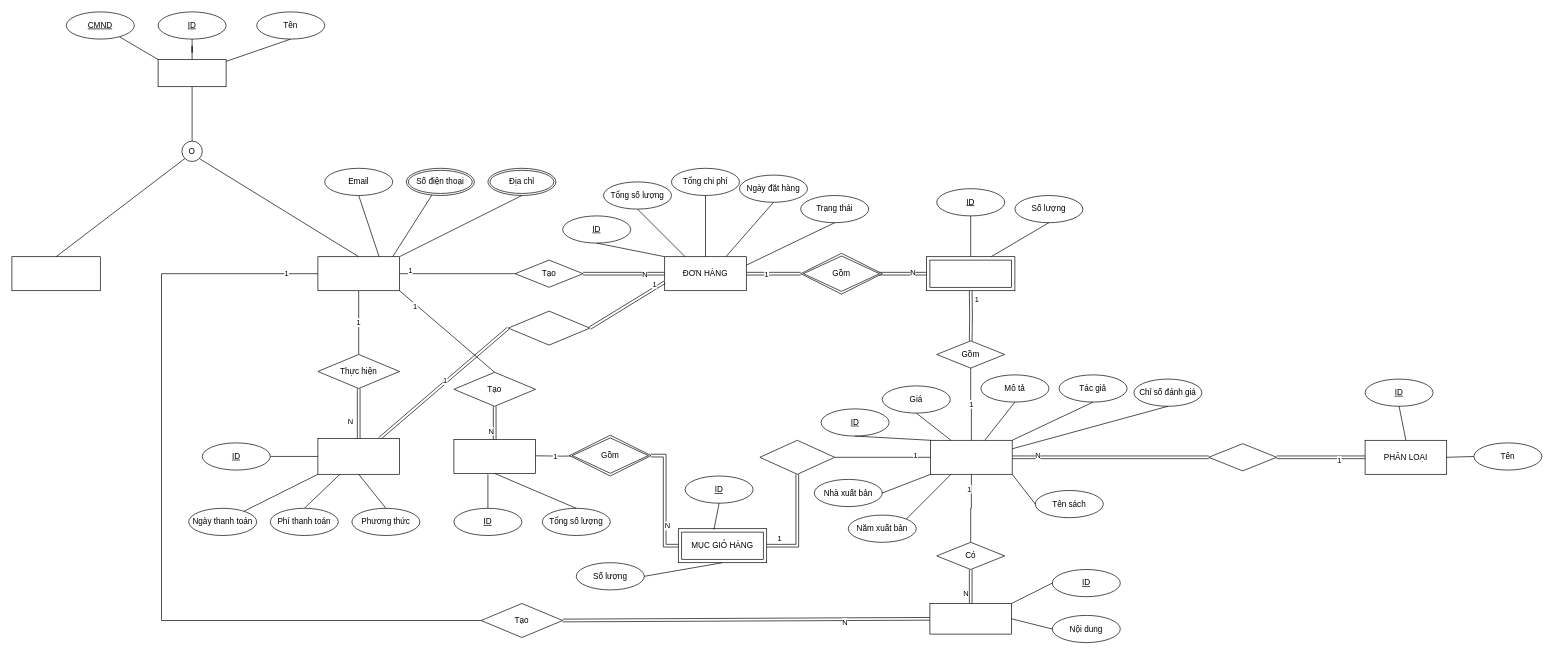
The diagram is 1554 pixels wide and 655 high, and some of its shapes have lost their labels. Each missing label, with the centre of its shape:
"BÌNH LUẬN" belongs at (x=970, y=618).
"GIỎ HÀNG" belongs at (x=494, y=456).
"KHÁCH HÀNG" belongs at (x=358, y=273).
"MỤC ĐƠN HÀNG" belongs at (x=970, y=273).
"NGƯỜI DÙNG" belongs at (x=191, y=73).
"NHÂN VIÊN QUẢN LÝ" belongs at (x=55, y=273).
"SẢN PHẨM" belongs at (x=971, y=457).
"THANH TOÁN" belongs at (x=358, y=456).
"Thanh toán cho" belongs at (x=549, y=327).
"Thuộc" belongs at (x=1242, y=457).
"Được thêm vào" belongs at (x=797, y=457).
